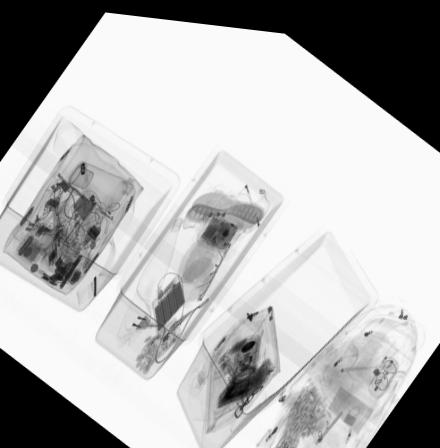Lighter: (61, 251, 81, 264)
